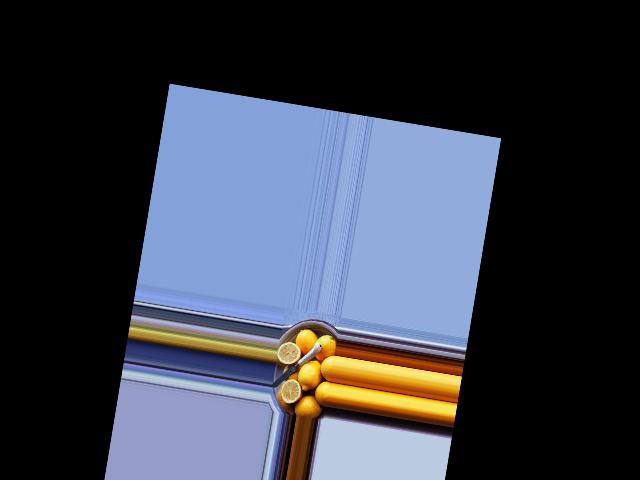lemon: (290, 391, 324, 419)
